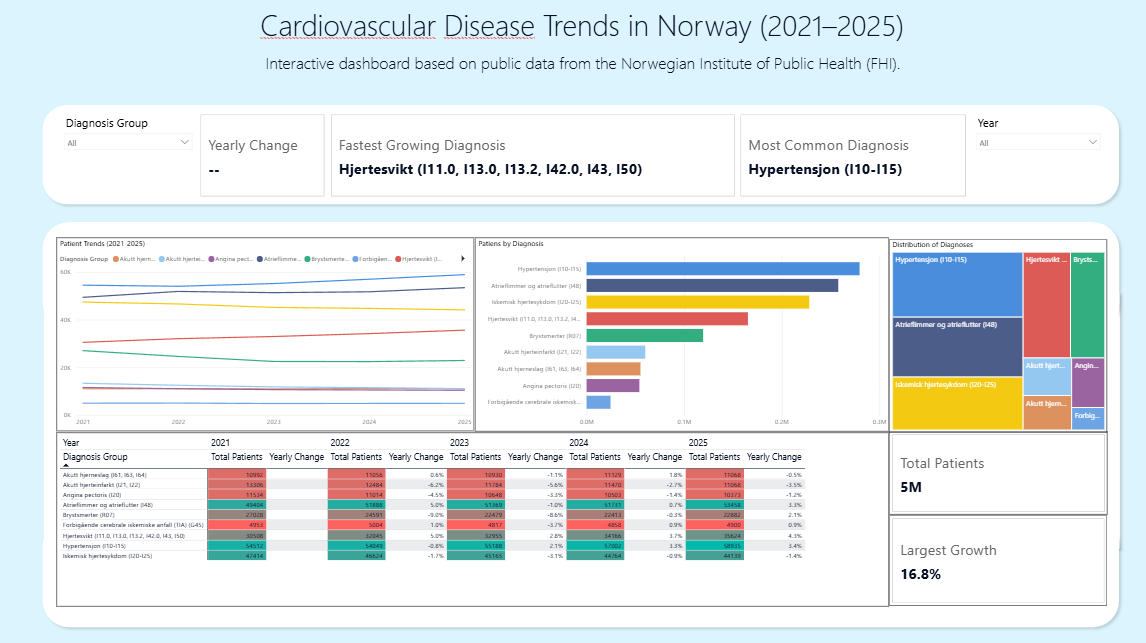

This screenshot's page, from the dashboard's own definition file:
{"tool":"powerbi","page":{"name":"Page 1","canvas":[1920,1080],"ordinal":0},"visuals":[{"type":"shape","box":[65,167.5,1812.5,183.8],"z":1000},{"type":"shape","box":[66.2,480,1811.2,445],"z":1500},{"type":"shape","box":[65,363.6,1812.9,196.4],"z":2000},{"type":"shape","box":[65,860,1812.5,196.2],"z":3000},{"type":"shape","box":[80,440,1788,528],"z":3500},{"type":"slicer","fields":{"Values":["Sheet1.Year"]},"box":[1620,187.5,227.5,145],"z":4000},{"type":"slicer","fields":{"Values":["Sheet1.Diagnosis Group"]},"box":[98.8,186.2,233.8,146.2],"z":5000},{"type":"cardVisual","title":"Total Patients","fields":{"Data":["Sheet1.Total Patients Summed"]},"box":[1485,721,364,139],"z":6000},{"type":"cardVisual","title":"Largest Diagnosis","fields":{"Data":["Sheet1.Largest Diagnosis"]},"box":[1233.2,186.6,385.9,146.3],"z":7000},{"type":"lineChart","title":"Patient Trends (2021-2025)","fields":{"Series":["Sheet1.Diagnosis Group"],"Category":["Sheet1.Year"],"Y":["Sheet1.Total Patients Summed"]},"box":[98.4,398.5,696,322.8],"z":8000},{"type":"clusteredBarChart","title":"Patiens by Diagnosis","fields":{"Category":["Sheet1.Diagnosis Group"],"Y":["Sheet1.Total Patients Summed"]},"box":[795.4,398.5,690,323.1],"z":9000},{"type":"treemap","title":"Distribution of Diagnoses","fields":{"Group":["Sheet1.Diagnosis Group"],"Values":["Sheet1.Total Patients Summed"]},"box":[1485.3,398.8,363.5,322.4],"z":10000},{"type":"cardVisual","fields":{"Data":["Sheet1.YoY Change %"]},"box":[332.9,186.6,216.9,146.3],"z":11000},{"type":"pivotTable","fields":{"Rows":["Sheet1.Diagnosis Group"],"Columns":["Sheet1.Year"],"Values":["Sheet1.Total Patients Summed","Sheet1.YoY %"]},"box":[98.4,721.3,1387,290],"z":12000},{"type":"cardVisual","fields":{"Data":["Sheet1.Largest Increase"]},"box":[549.8,186.6,683.4,146.3],"z":13000},{"type":"cardVisual","fields":{"Data":["Sheet1.Largest Increase %"]},"box":[1485.4,860,363.2,151.3],"z":14000},{"type":"textbox","box":[100,5,1747.5,77.5],"z":15000},{"type":"textbox","box":[100,82.5,1750,85],"z":16000}]}

Visuals, with their boxes in screenshot pixels (x1, y1, x2, y2), scaled from the page's 1920x1080 canvas onto the 1146x643 screenshot:
shape: pyautogui.locateOnScreen(39, 100, 1121, 209)
shape: pyautogui.locateOnScreen(40, 286, 1121, 551)
shape: pyautogui.locateOnScreen(39, 216, 1121, 333)
shape: pyautogui.locateOnScreen(39, 512, 1121, 629)
shape: pyautogui.locateOnScreen(48, 262, 1115, 576)
slicer - Sheet1.Year: pyautogui.locateOnScreen(967, 112, 1103, 198)
slicer - Sheet1.Diagnosis Group: pyautogui.locateOnScreen(59, 111, 199, 198)
"Total Patients" cardVisual: pyautogui.locateOnScreen(886, 429, 1104, 512)
"Largest Diagnosis" cardVisual: pyautogui.locateOnScreen(736, 111, 966, 198)
"Patient Trends (2021-2025)" lineChart: pyautogui.locateOnScreen(59, 237, 474, 429)
"Patiens by Diagnosis" clusteredBarChart: pyautogui.locateOnScreen(475, 237, 887, 430)
"Distribution of Diagnoses" treemap: pyautogui.locateOnScreen(887, 237, 1104, 429)
cardVisual - Sheet1.YoY Change %: pyautogui.locateOnScreen(199, 111, 328, 198)
pivotTable - Sheet1.Diagnosis Group x Sheet1.Year: pyautogui.locateOnScreen(59, 429, 887, 602)
cardVisual - Sheet1.Largest Increase: pyautogui.locateOnScreen(328, 111, 736, 198)
cardVisual - Sheet1.Largest Increase %: pyautogui.locateOnScreen(887, 512, 1103, 602)
textbox: pyautogui.locateOnScreen(60, 3, 1103, 49)
textbox: pyautogui.locateOnScreen(60, 49, 1104, 100)
